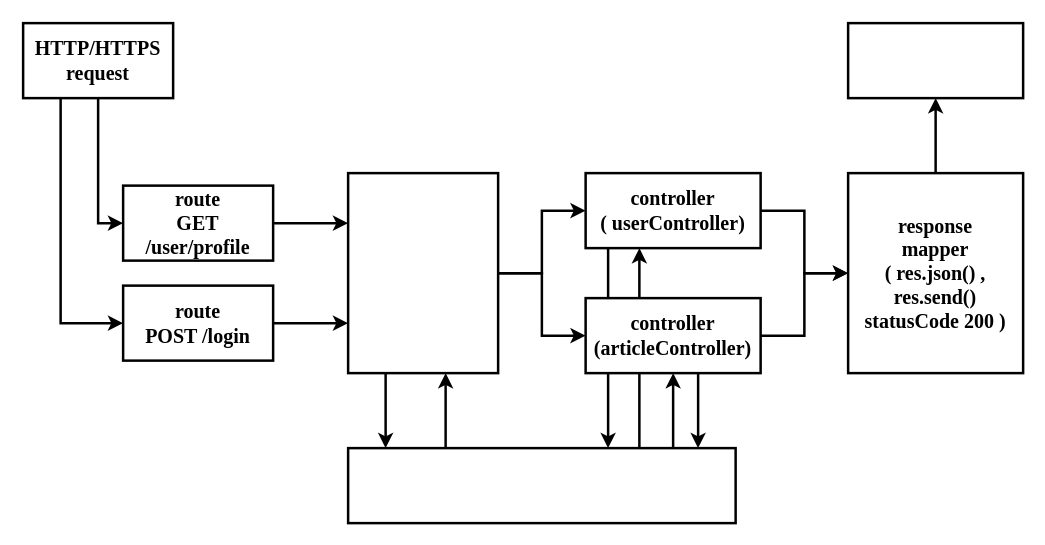
This 1045x545 diagram has some shape labels left out. The shapes that lost their labels are listed below. From the top down, each one's centre as x and y in pixels, then its label:
At (935,60): "JSON response".
At (422,272): "middlewares (body-parser, auth....)".
At (541,485): "database ( MySQL )".
